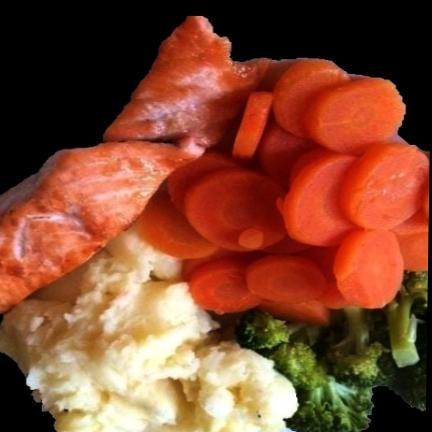broccoli: (220, 271, 428, 432)
carrot: (132, 61, 430, 330)
meat: (0, 12, 270, 314)
potato: (0, 234, 295, 432)
